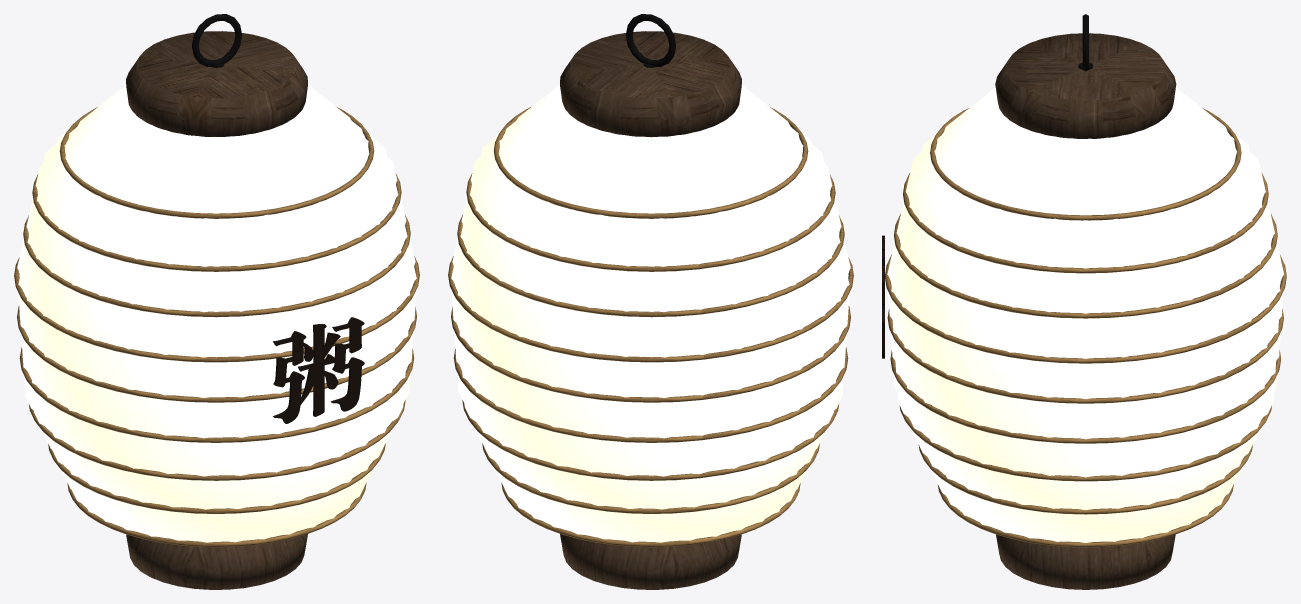
The model's file is PROP_WarmWood_Lamp_Paper.glb.
3 renders of one model, left to right at view 1: azimuth 30°, elevation 25°; view 2: azimuth 150°, elevation 25°; view 3: azimuth 270°, elevation 25°, orthographic.
Visible parts, largest first — view 1: PROP_WarmWood_Lamp_Paper; view 2: PROP_WarmWood_Lamp_Paper; view 3: PROP_WarmWood_Lamp_Paper.
Boxes of the visible parts, x1,y1,x2,y2 form: PROP_WarmWood_Lamp_Paper: [14, 14, 419, 589]; PROP_WarmWood_Lamp_Paper: [448, 14, 853, 589]; PROP_WarmWood_Lamp_Paper: [882, 14, 1286, 589].
Size of the model in its own units: 0.532 by 0.778 by 0.532.
5 materials, 5 textured.
